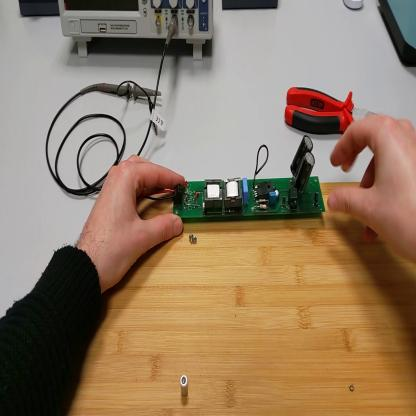hand: (82, 154, 186, 288), (328, 114, 416, 258)
high voltage board: (144, 134, 326, 222)
oscilloscope: (59, 3, 216, 65)
oscilloscope probe tip: (93, 80, 164, 99)
pliers: (284, 86, 358, 139)
socket: (20, 3, 60, 23)
welder station: (379, 4, 416, 67)
working area: (67, 181, 416, 413)
